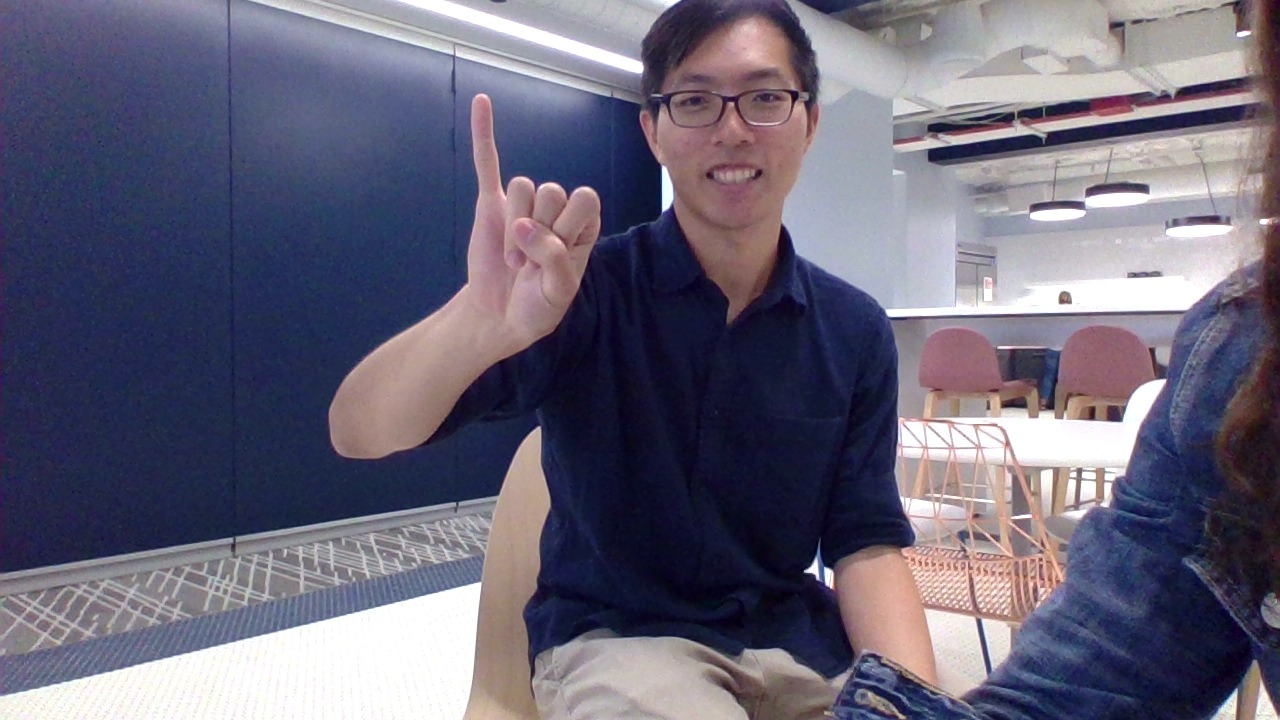i: (447, 76, 605, 362)
